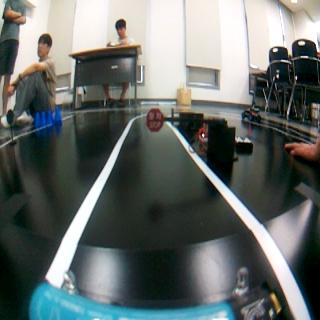stop: (146, 106, 163, 130)
